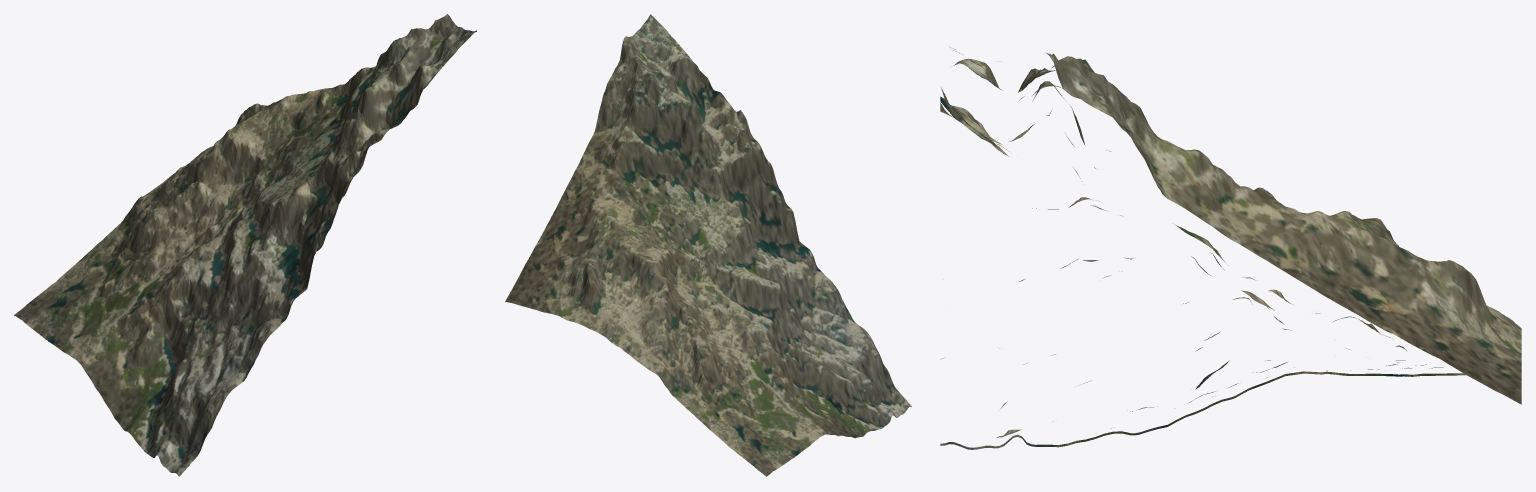
3 views of the same model, side by side, from view 1: azimuth 30°, elevation 25°; view 2: azimuth 150°, elevation 25°; view 3: azimuth 270°, elevation 25° (orthographic). The views are drawn at different scales.
Bounding box in the file's own units: 250 × 303 × 241.
Materials: 1 (1 with a texture image).
